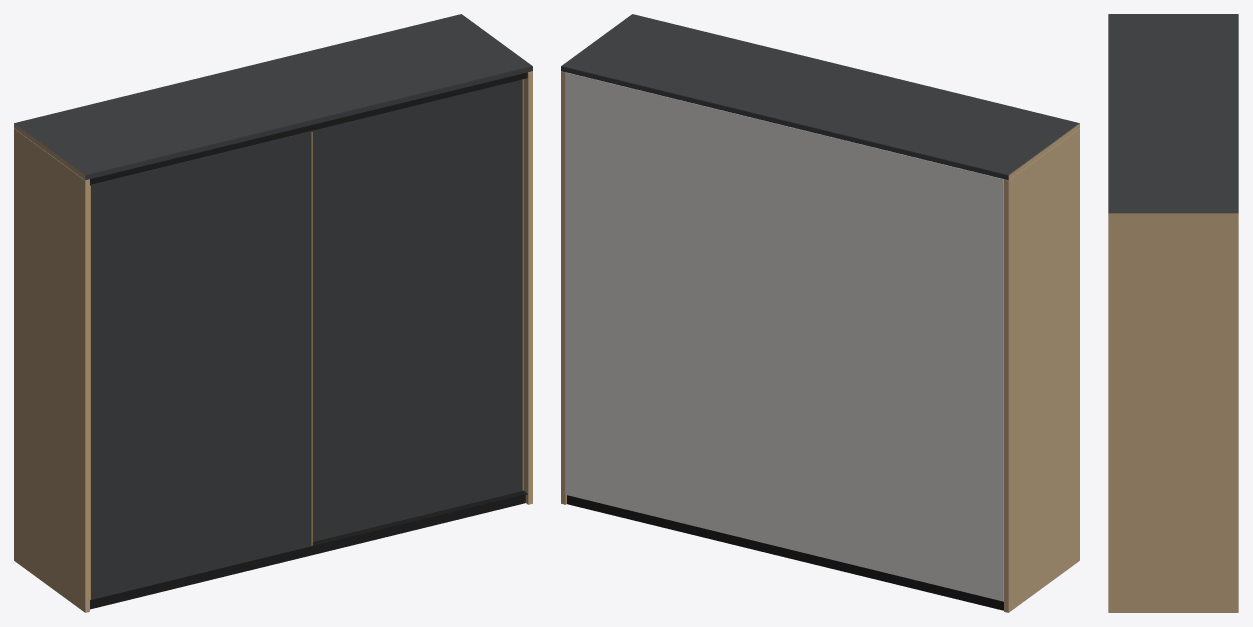
Rendered from model-prestige.glb.
3 renders of one model, left to right at view 1: azimuth 30°, elevation 25°; view 2: azimuth 150°, elevation 25°; view 3: azimuth 270°, elevation 25°, orthographic. The views are drawn at different scales.
Parts seen in each view (by area): view 1: xcm_pintuKiri, xcm_pintuKanan, syme; view 2: syme; view 3: syme.
Boxes of the visible parts, x1,y1,x2,y2 form: xcm_pintuKiri: [90, 131, 312, 599]; xcm_pintuKanan: [312, 79, 523, 541]; syme: [14, 14, 532, 612]; syme: [561, 14, 1079, 612]; syme: [1108, 14, 1238, 612].
Bounding box in the file's own units: 2.28 × 2.13 × 0.63.
